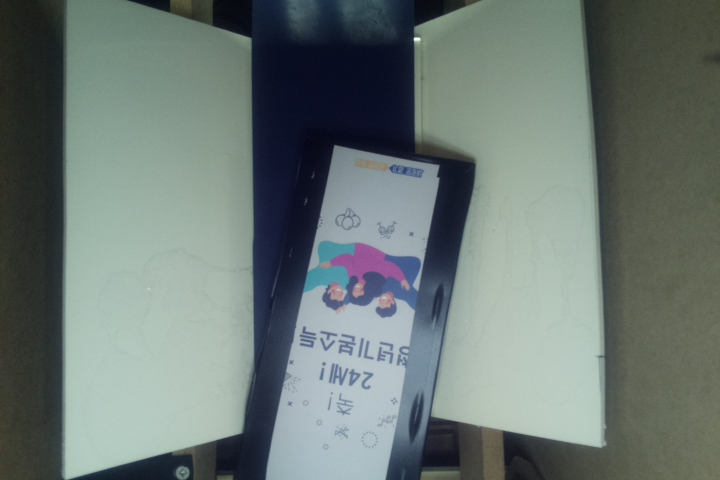book: (237, 142, 478, 480)
